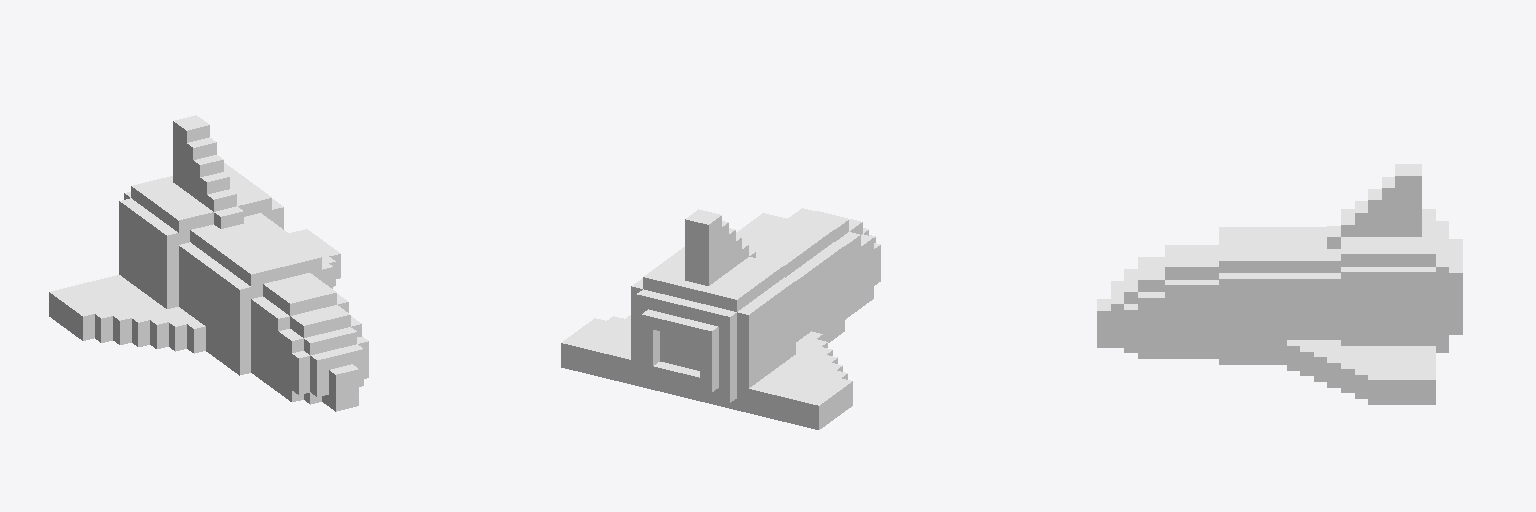
The model's file is Shuttle.obj.
The picture shows the model from 3 angles: view 1: azimuth 30°, elevation 25°; view 2: azimuth 150°, elevation 25°; view 3: azimuth 270°, elevation 25°; orthographic projection.
Parts seen in each view (by area): view 1: object 1; view 2: object 1; view 3: object 1.
Boxes of the visible parts, box(x1,y1,x2,y2) form: object 1: box(49, 115, 368, 411); object 1: box(561, 208, 880, 429); object 1: box(1097, 164, 1462, 404).
Size of the model in its own units: 2.2 by 1.4 by 2.7.